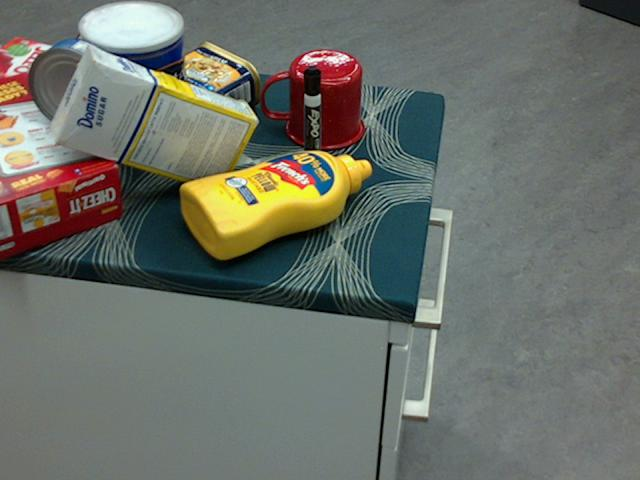cracker_box: (0, 73, 123, 257)
gelatin_box: (0, 38, 71, 101)
large_marker: (301, 65, 321, 172)
master_chef_can: (80, 2, 188, 166)
mug: (260, 49, 362, 150)
mustard_bottle: (179, 150, 371, 259)
potted_meat_can: (149, 41, 260, 130)
sugar_box: (51, 47, 258, 190)
tomato_soup_can: (57, 24, 133, 118)
tuna_fish_can: (28, 38, 123, 131)
